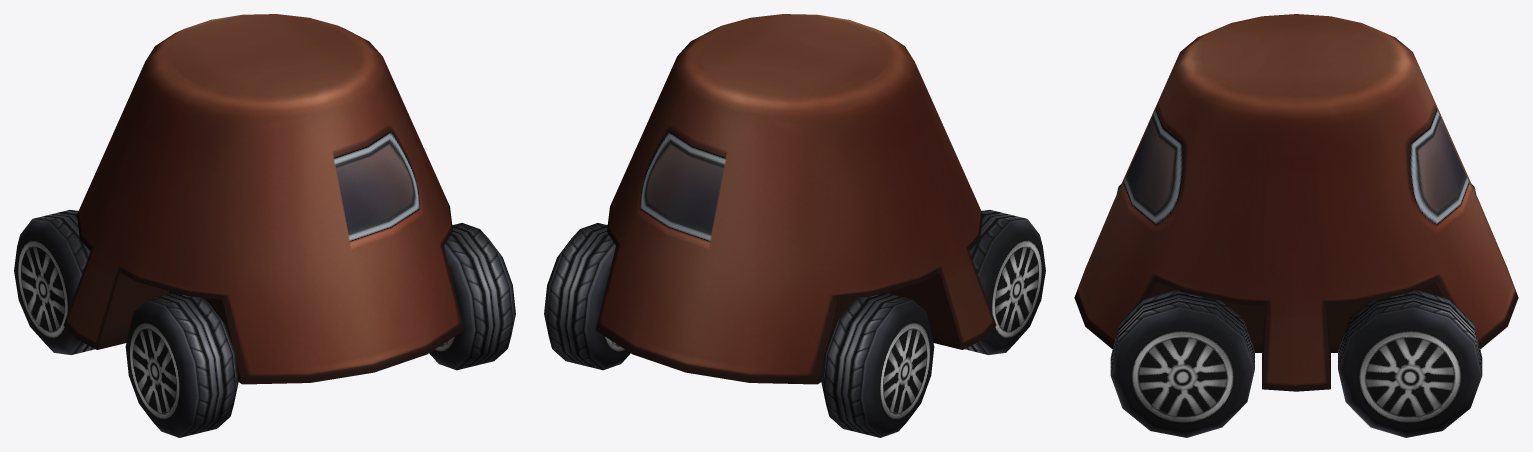
The model's file is pino_fix2s_v3.fbx.
The picture shows the model from 3 angles, left to right: view 1: azimuth 30°, elevation 25°; view 2: azimuth 150°, elevation 25°; view 3: azimuth 270°, elevation 25°; orthographic projection.
Parts seen in each view (by area): view 1: Car1; view 2: Car1; view 3: Car1.
Boxes of the visible parts, box(x1,y1,x2,y2) form: Car1: box(14, 14, 515, 437); Car1: box(544, 14, 1045, 437); Car1: box(1074, 14, 1518, 437).
Bounding box in the file's own units: 3.73 × 2.8 × 3.72.
